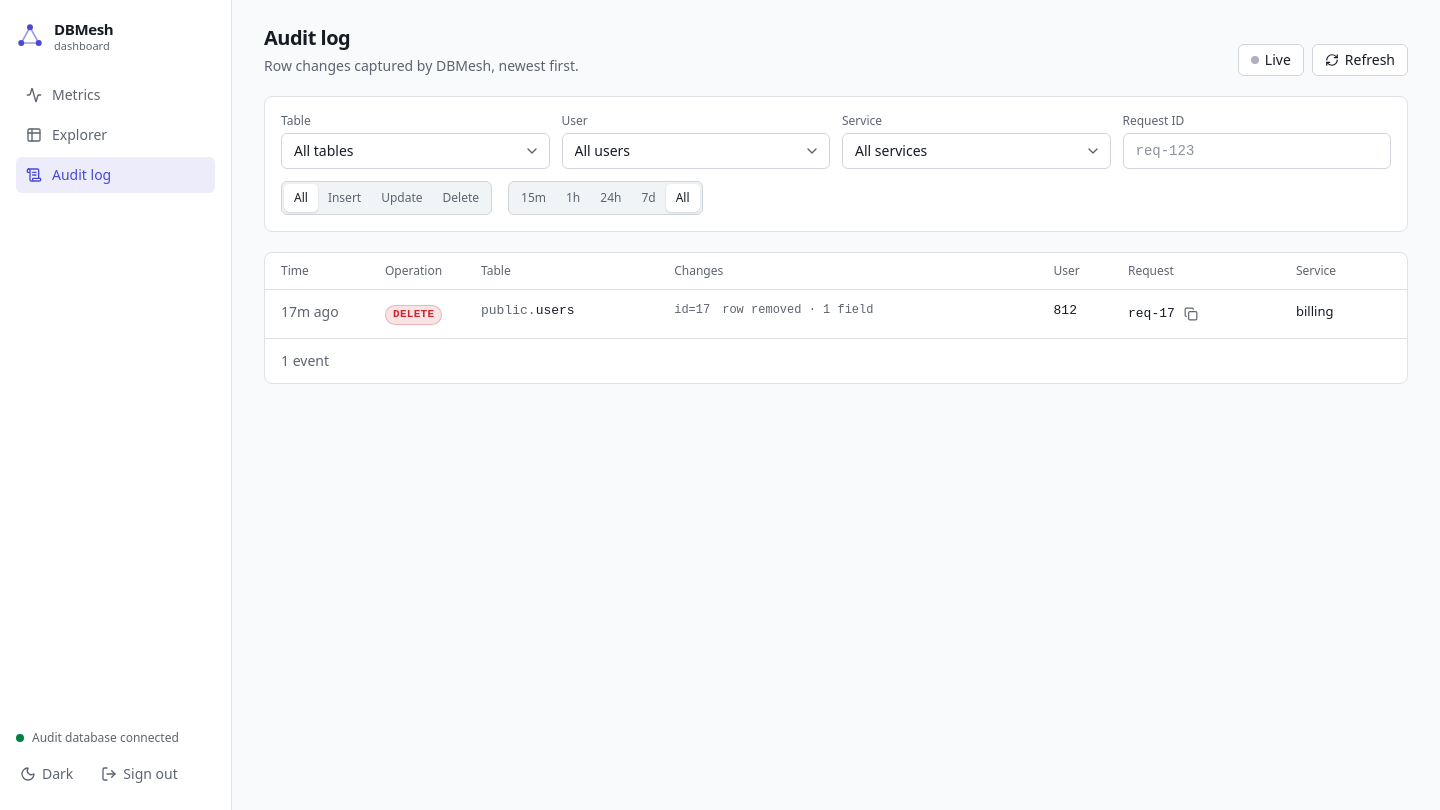
audit log › shows a deleted row and an inserted row appropriately
This screenshot has width=1440, height=810.
What coordinates should you click on to do the following:
click the row named "DELETE public.users, 17m ago. Open details"
I would click on:
 (836, 314)
Its box is [265,290,1407,338].
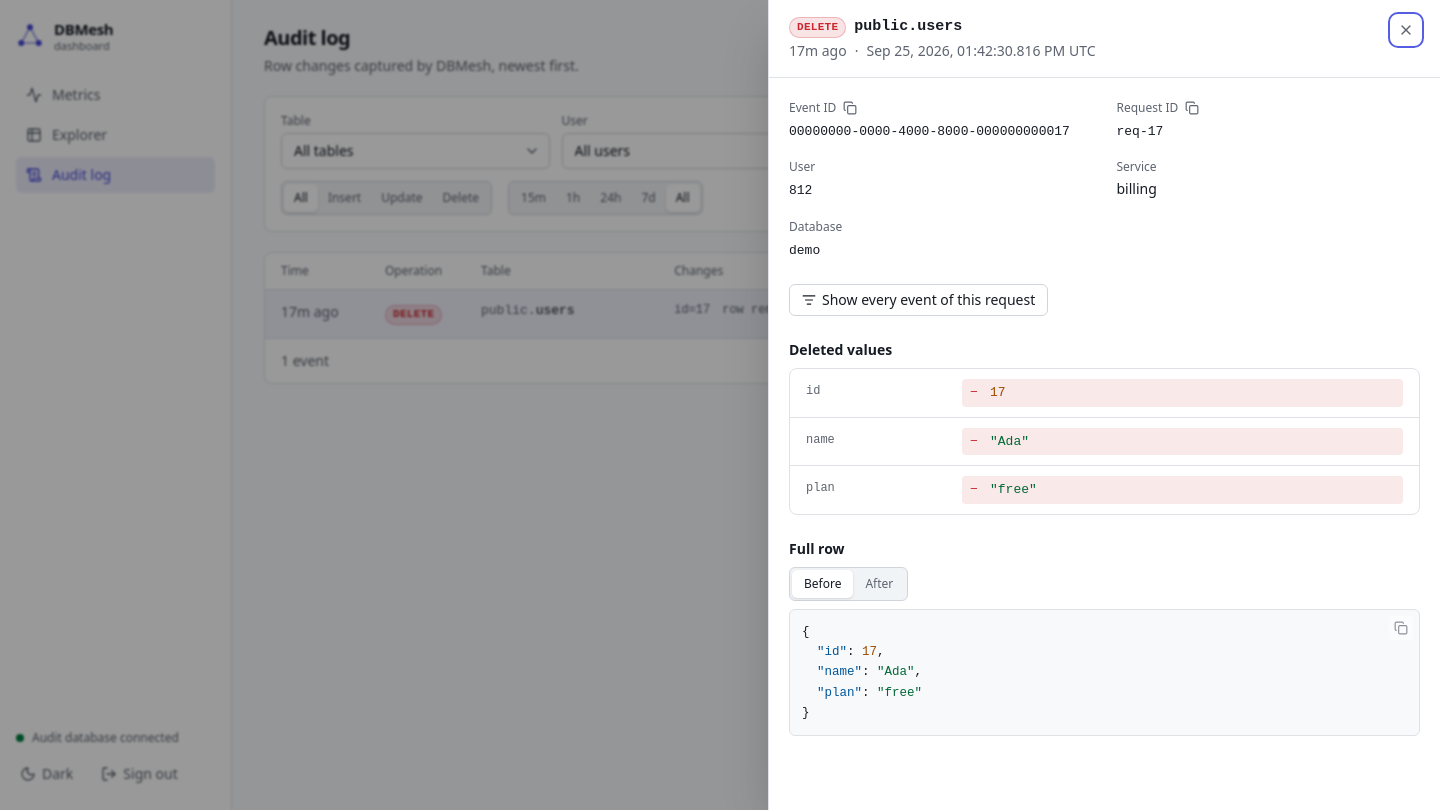
Expected: the heading "Deleted values" is shown, [789,340,892,359]
What coordinates should you click on to do the following:
click the tab "After"
I would click on:
 (879, 584)
Its box is [854,570,905,598].
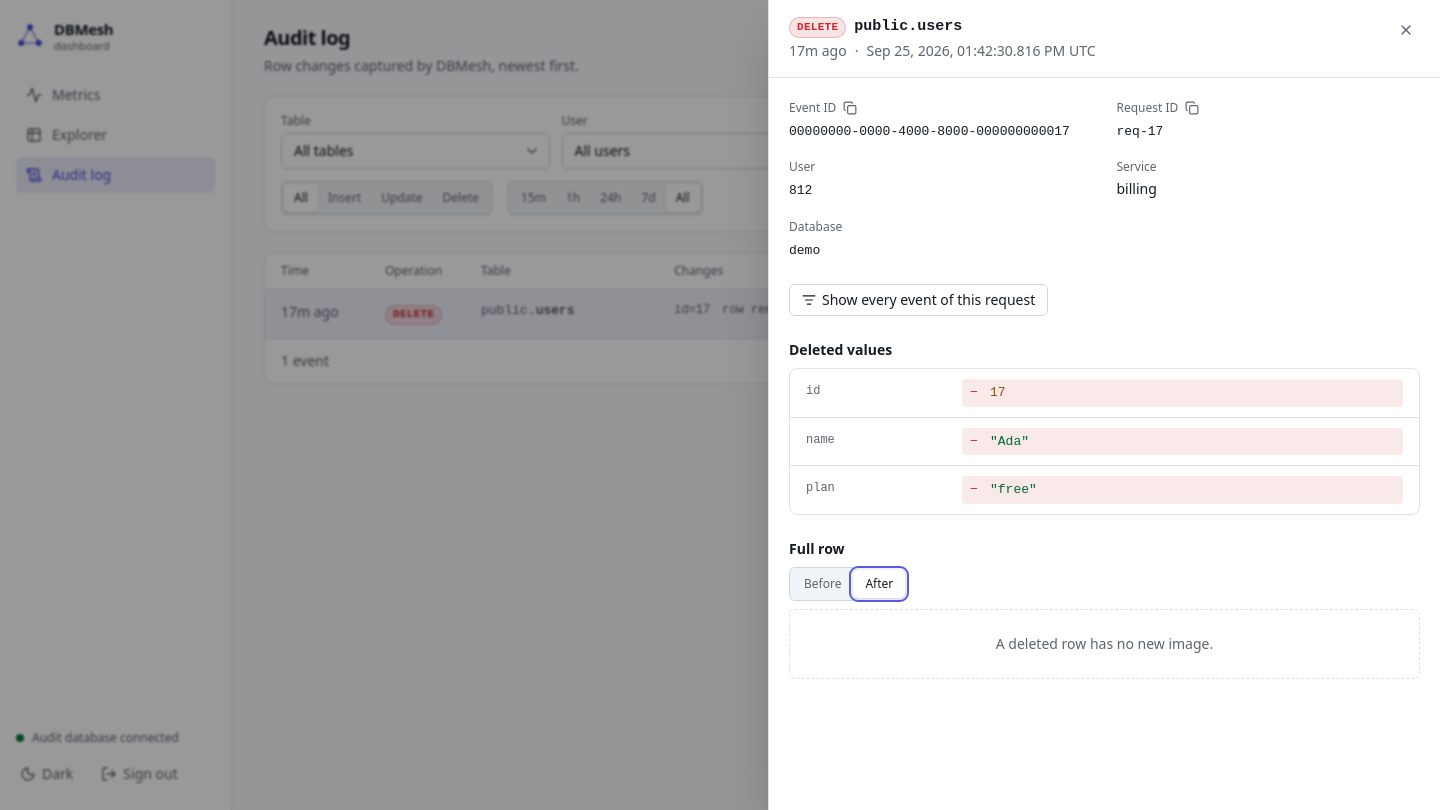
Expected: the text "A deleted row has no new image." is shown, [789,609,1420,679]
